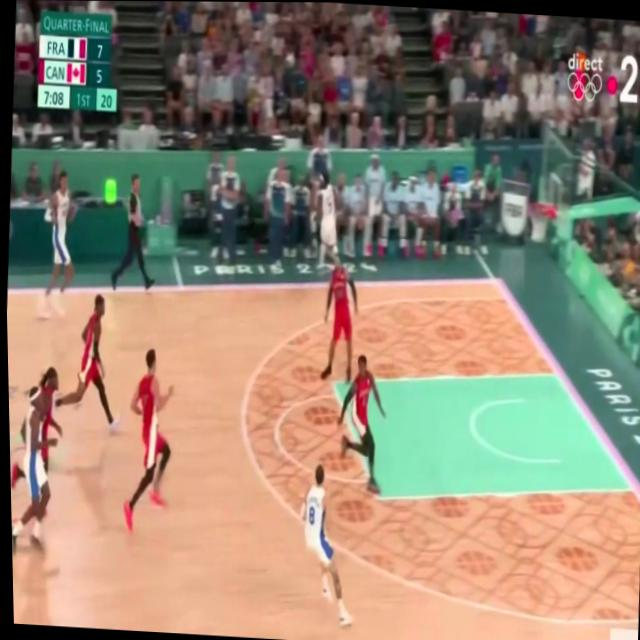ball_handler: (295, 475, 357, 629)
